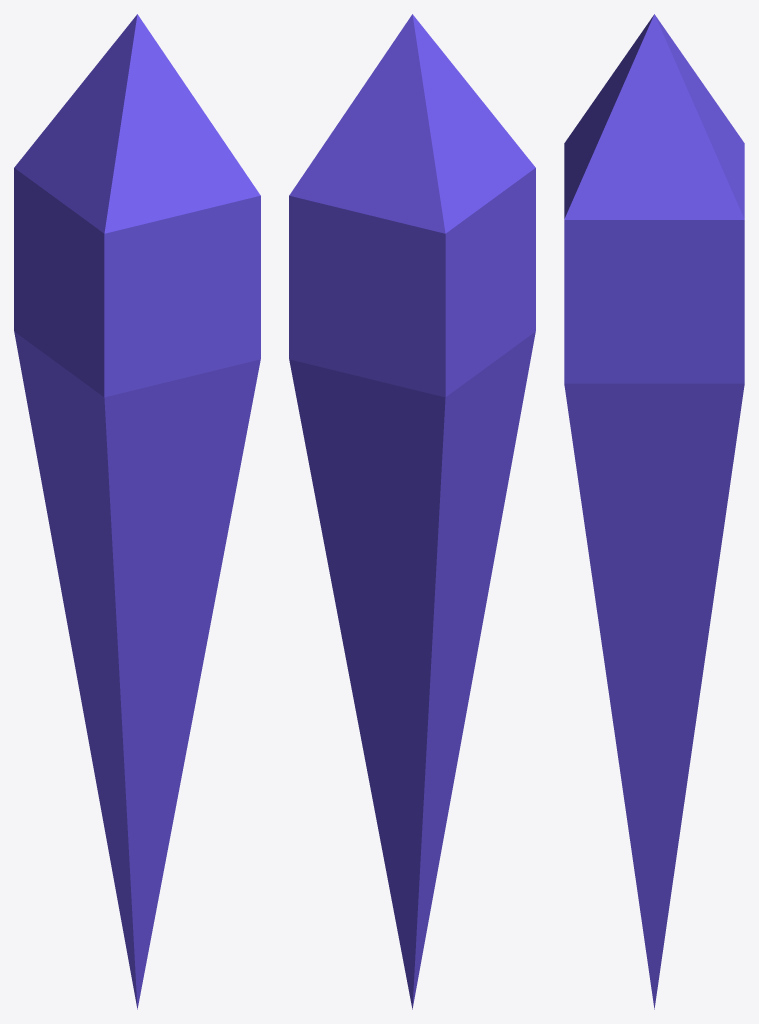
The model's file is ThermoFractureEffectMesh1.fbx.
3 renders of one model, left to right at view 1: azimuth 30°, elevation 25°; view 2: azimuth 150°, elevation 25°; view 3: azimuth 270°, elevation 25°, orthographic.
Parts seen in each view (by area): view 1: Cube; view 2: Cube; view 3: Cube.
Boxes of the visible parts, x1,y1,x2,y2 form: Cube: (14,14,260,1009); Cube: (289,14,535,1009); Cube: (564,14,744,1009).
Bounding box in the file's own units: 200 × 1217 × 200.
1 material, 1 textured.
